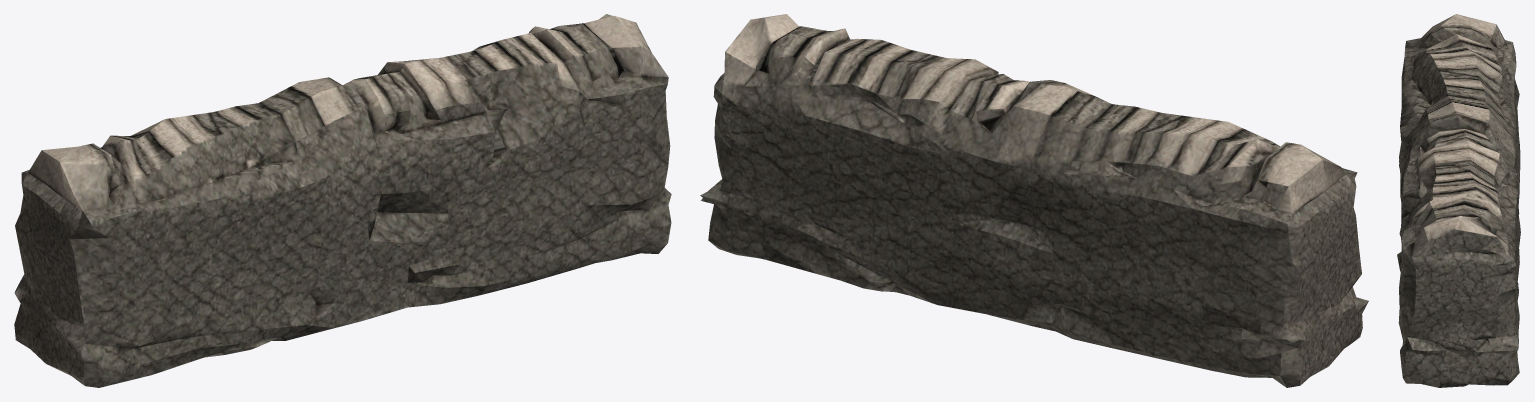
The model's file is ok-fence-stonewall-pixelated.glb.
3 views of the same model, side by side, from view 1: azimuth 30°, elevation 25°; view 2: azimuth 150°, elevation 25°; view 3: azimuth 270°, elevation 25° (orthographic). The views are drawn at different scales.
Parts seen in each view (by area): view 1: 0; view 2: 0; view 3: 0.
Part boxes in pixels (bbox=[...]): 0: bbox=[14, 14, 671, 387]; 0: bbox=[700, 14, 1368, 387]; 0: bbox=[1397, 14, 1520, 387].
Bounding box in the file's own units: 1.89 × 0.6481 × 0.4417.
1 material, 1 textured.
